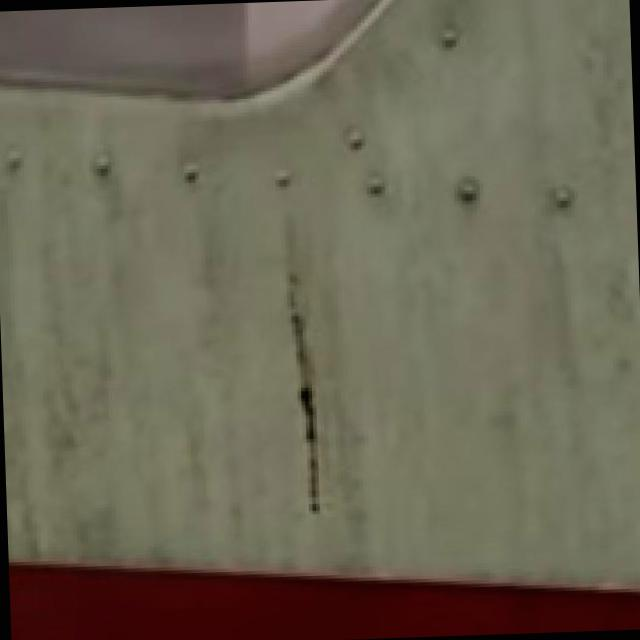crack: (278, 273, 364, 512)
